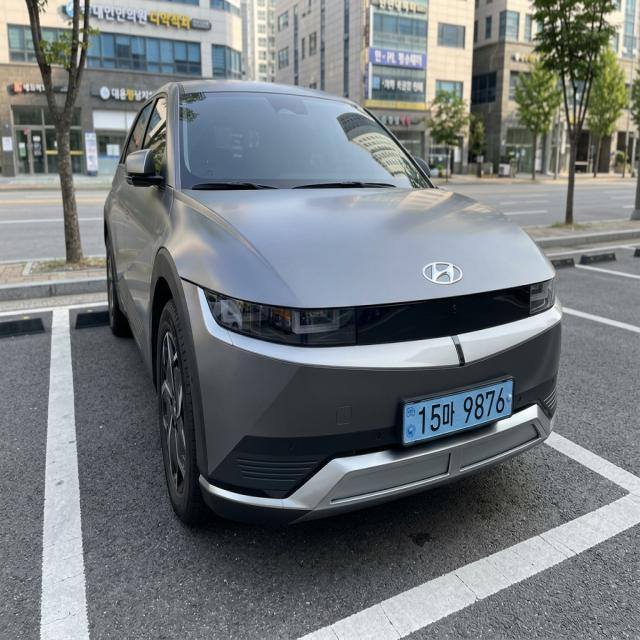car: (389, 373, 530, 458)
carev: (405, 399, 420, 447), (504, 378, 517, 419)
